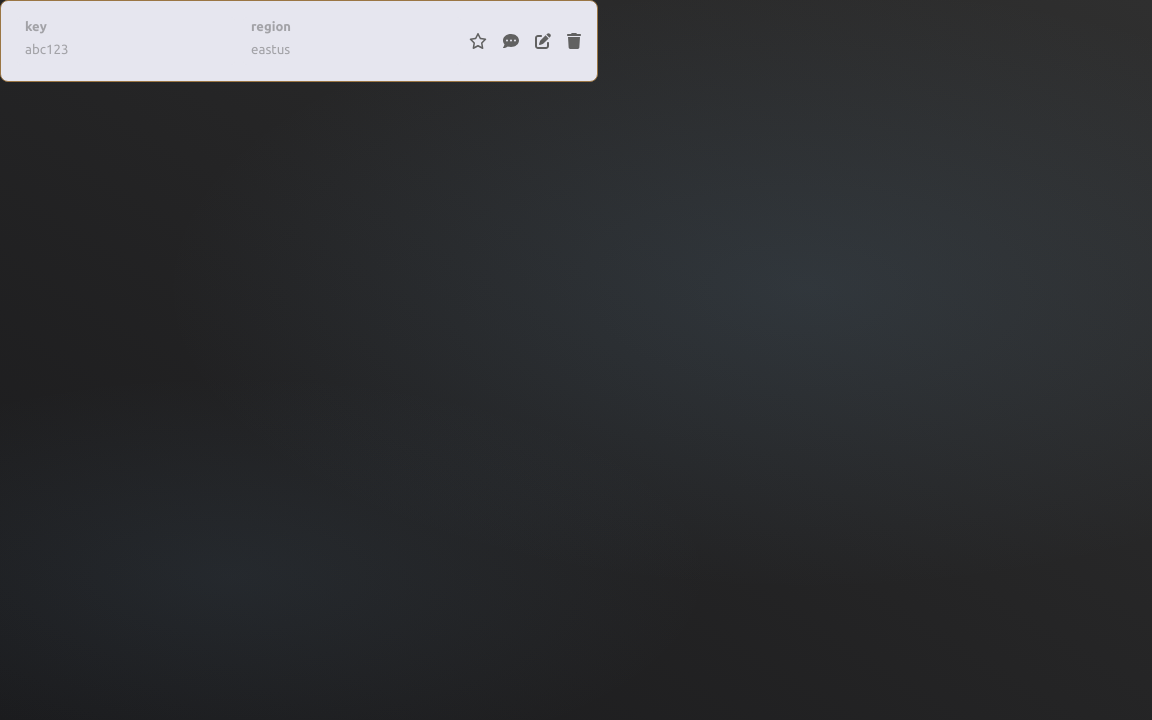
Scenario: CredentialCard › saves an existing credential via updateCredential and updates the store
Click the button with test id "credential-card-edit" at (543, 41), box x1=535 y1=33 x2=551 y2=49
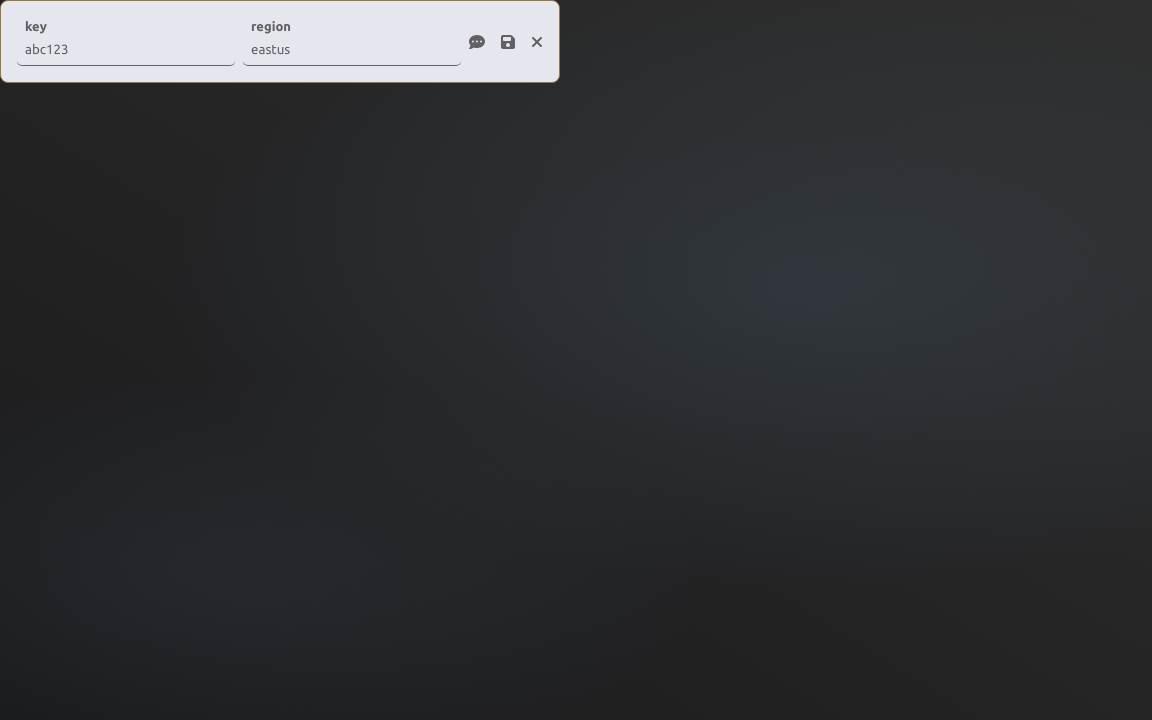
Replace the text in the field showing "abc123" with "new-key" at (126, 50), box x1=17 y1=34 x2=235 y2=66
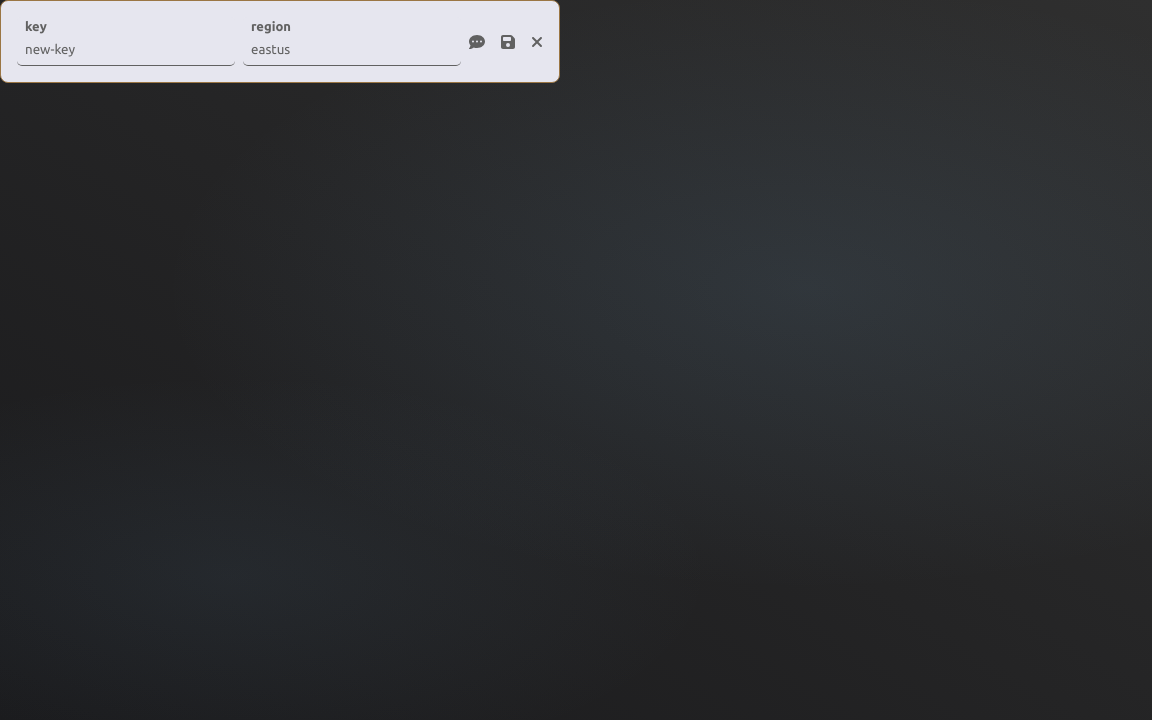
Click the button with test id "credential-card-save" at (508, 42), box x1=501 y1=34 x2=515 y2=50
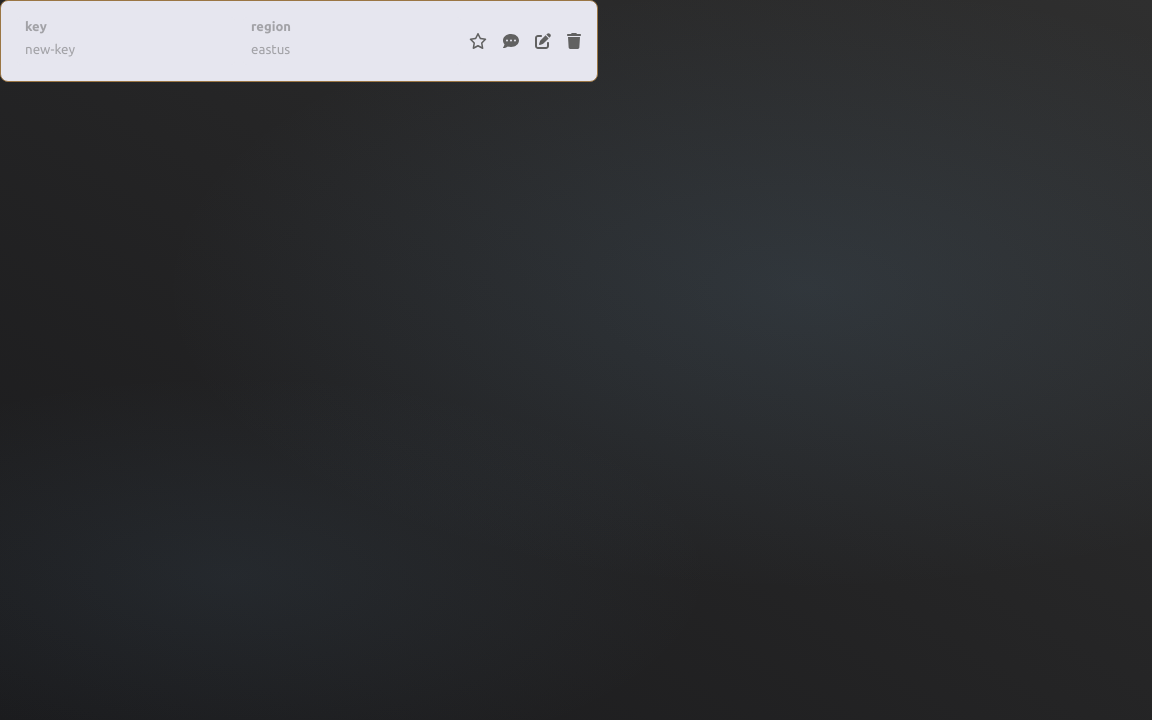
Expected: the button with test id "credential-card-edit" is shown, x1=535 y1=33 x2=551 y2=49
